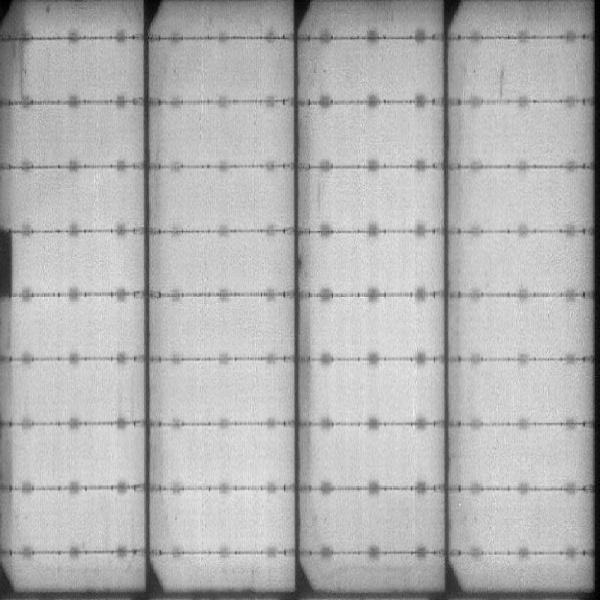black_border: (1, 225, 16, 301)
scratch: (13, 46, 28, 101), (493, 66, 513, 101)
